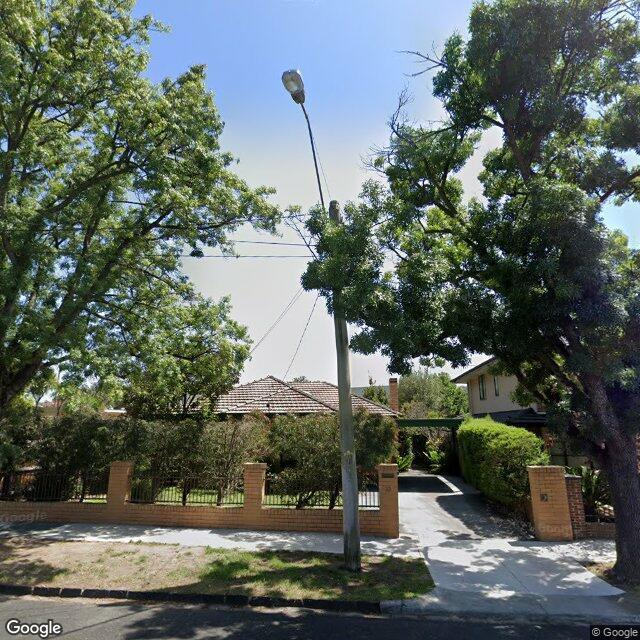streetlight: (282, 70, 327, 222)
timber-pole: (329, 200, 362, 573)
